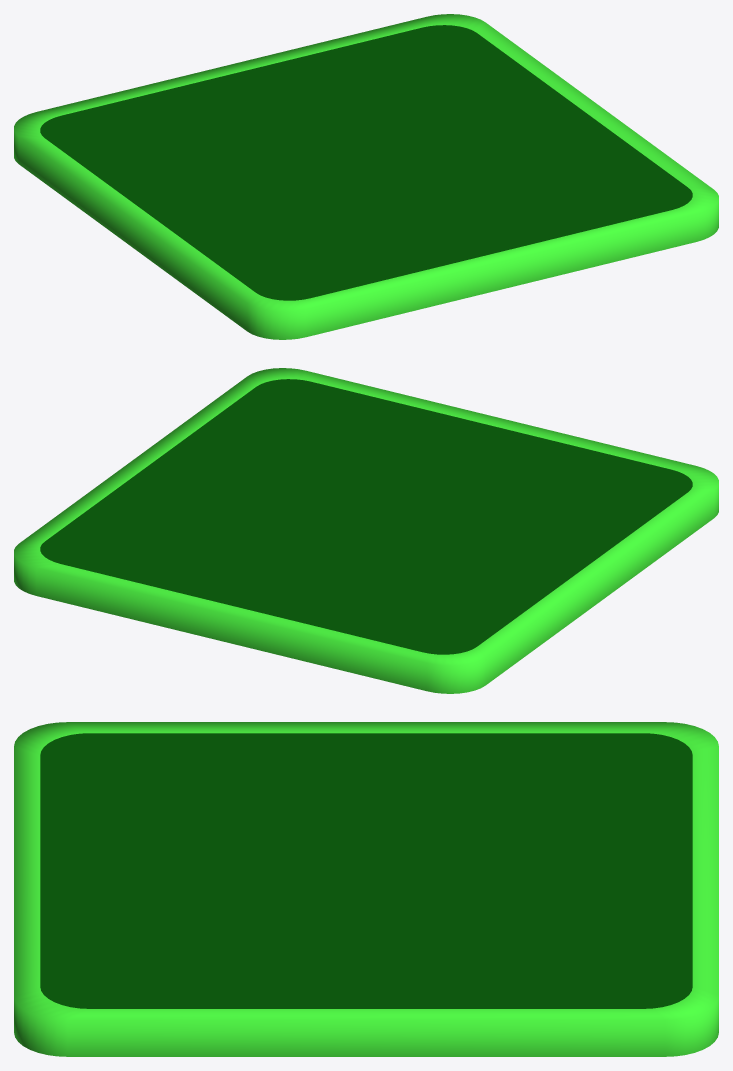
Rendered from BasicTile.fbx.
The picture shows the model from 3 angles, top to bottom: view 1: azimuth 30°, elevation 25°; view 2: azimuth 150°, elevation 25°; view 3: azimuth 270°, elevation 25°; orthographic projection. The views are drawn at different scales.
Visible parts, largest first — view 1: Tile.011; view 2: Tile.011; view 3: Tile.011.
Part boxes in pixels (x1,y1,x2,y2): Tile.011: (14,14,718,339); Tile.011: (14,368,718,693); Tile.011: (14,722,718,1056).
Bounding box in the file's own units: 1.17 × 0.0674 × 1.17.
